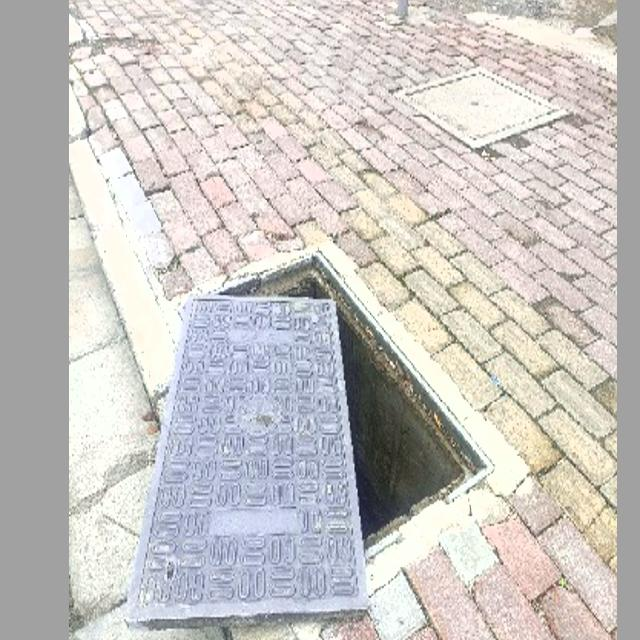good: (393, 66, 575, 151)
uncovered: (127, 232, 527, 632)
